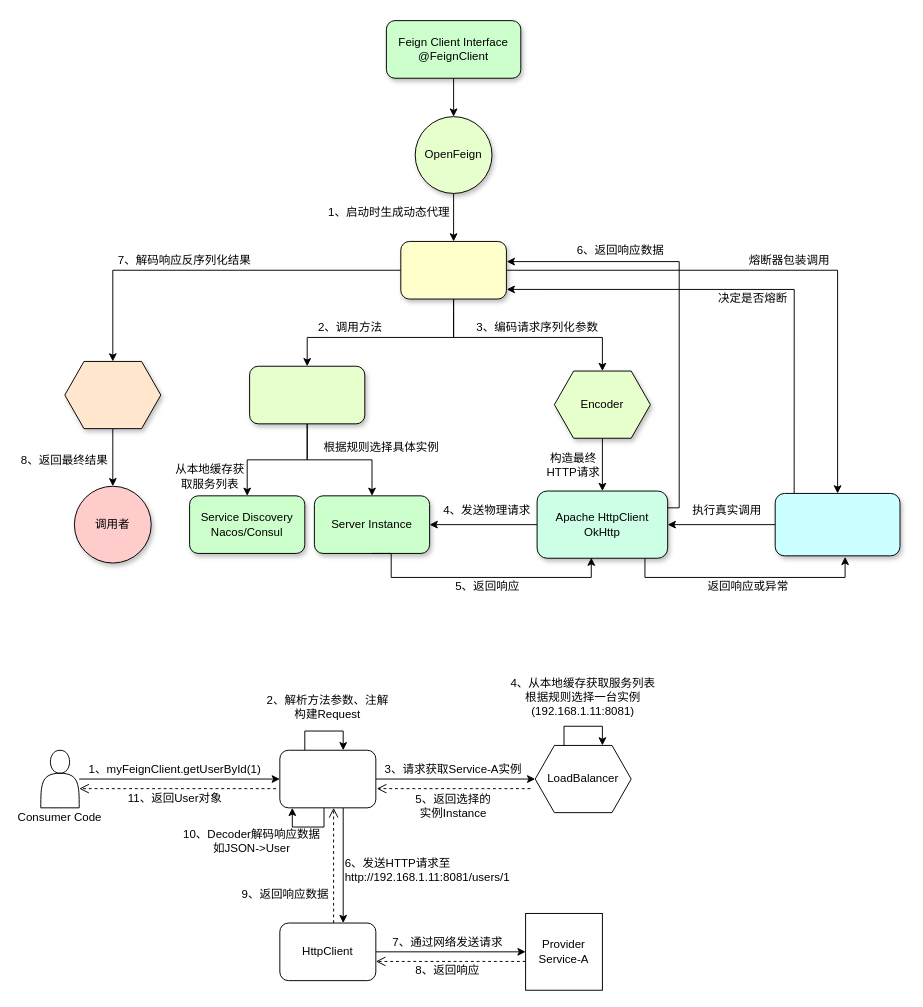
Some shapes in this 923 by 1007 pixel diagram are drawn without their labels. The centre of each missing label's shape, as x and y in pixels:
"CircuitBreaker Sentinel/Resilience4j" belongs at point 838,526.
"Decoder" belongs at point 113,396.
"Feign Proxy" belongs at point 327,778.
"JDK Dynamic Proxy" belongs at point 454,271.
"Spring Cloud LoadBalancer" belongs at point 308,396.
